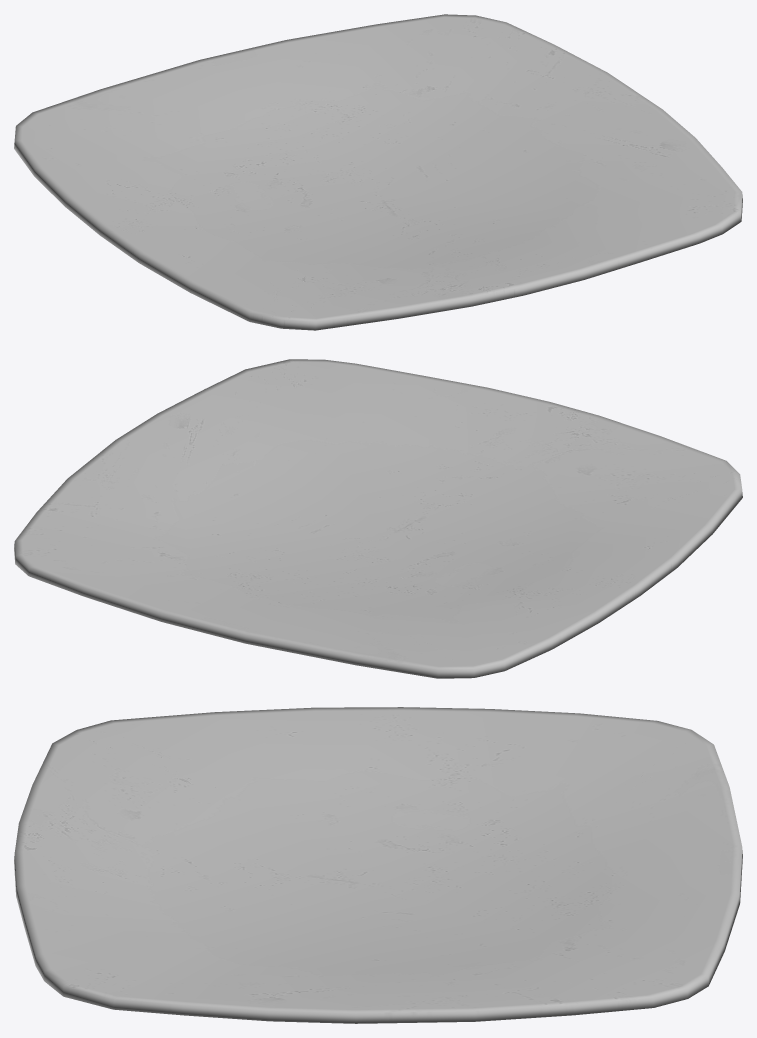
The model's file is SM_Dishes_B1.fbx.
3 renders of one model, top to bottom at view 1: azimuth 30°, elevation 25°; view 2: azimuth 150°, elevation 25°; view 3: azimuth 270°, elevation 25°, orthographic. The views are drawn at different scales.
Parts seen in each view (by area): view 1: SM_Dishes_B1; view 2: SM_Dishes_B1; view 3: SM_Dishes_B1.
Part boxes in pixels (x1=…): SM_Dishes_B1: x1=14, y1=14, x2=742, y2=330; SM_Dishes_B1: x1=14, y1=359, x2=742, y2=678; SM_Dishes_B1: x1=14, y1=707, x2=742, y2=1023.
Size of the model in its own units: 25.22 by 25.27 by 2.58.
1 material, 1 textured.
